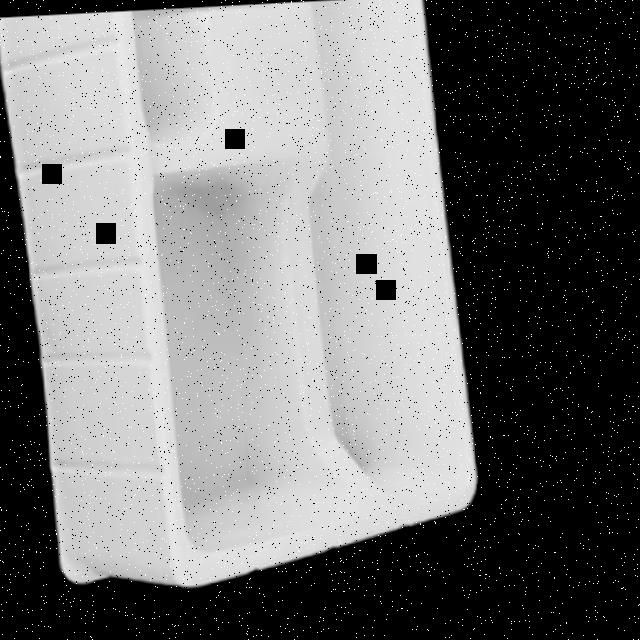plastic_box: (0, 0, 487, 594)
